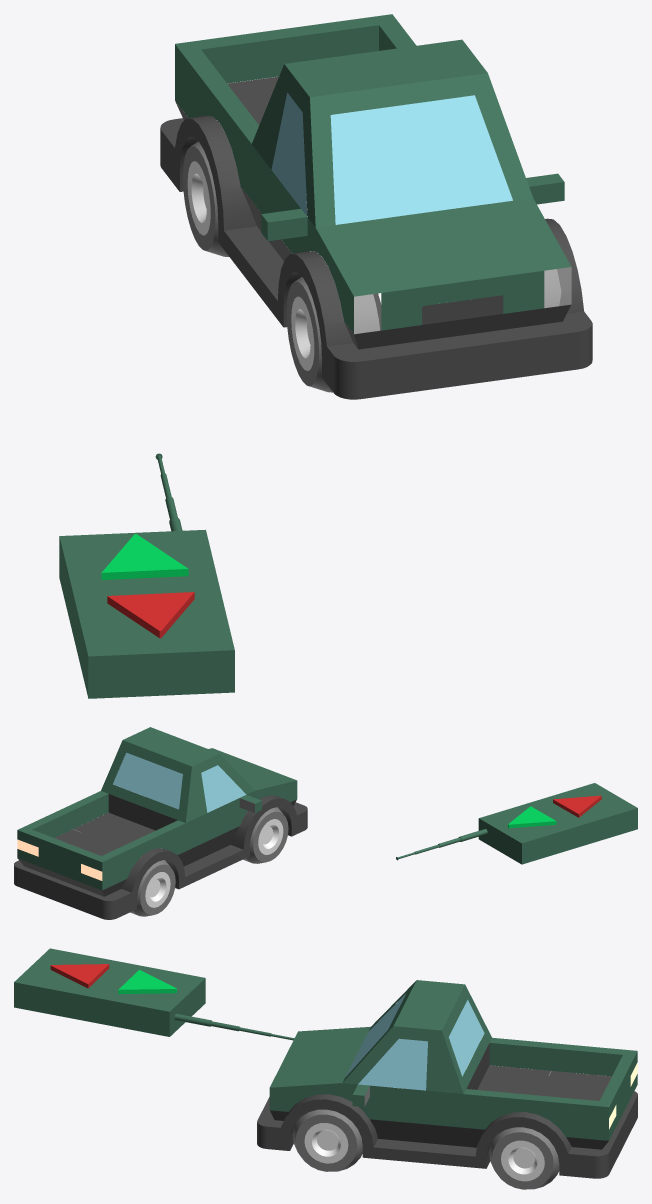
The model's file is car-remote.glb.
3 renders of one model, top to bottom at view 1: azimuth 30°, elevation 25°; view 2: azimuth 150°, elevation 25°; view 3: azimuth 270°, elevation 25°, orthographic. The views are drawn at different scales.
Parts seen in each view (by area): view 1: body, remote, wheel_frontRight, wheel_backRight; view 2: body, remote, wheel_backRight, wheel_frontRight; view 3: body, remote, wheel_backLeft, wheel_frontLeft.
Boxes of the visible parts, left/top/right/bottom form: body: left=160, top=14, right=592, bottom=399; remote: left=59, top=453, right=234, bottom=698; wheel_frontRight: left=286, top=271, right=379, bottom=392; wheel_backRight: left=183, top=141, right=240, bottom=256; body: left=14, top=727, right=307, bottom=919; remote: left=396, top=783, right=637, bottom=864; wheel_backRight: left=130, top=856, right=175, bottom=916; wheel_frontRight: left=243, top=807, right=288, bottom=863; body: left=257, top=980, right=637, bottom=1178; remote: left=14, top=948, right=294, bottom=1040; wheel_backLeft: left=489, top=1127, right=559, bottom=1189; wheel_frontLeft: left=292, top=1109, right=362, bottom=1171.
Size of the model in its own units: 0.3072 by 0.0923 by 0.3536.
